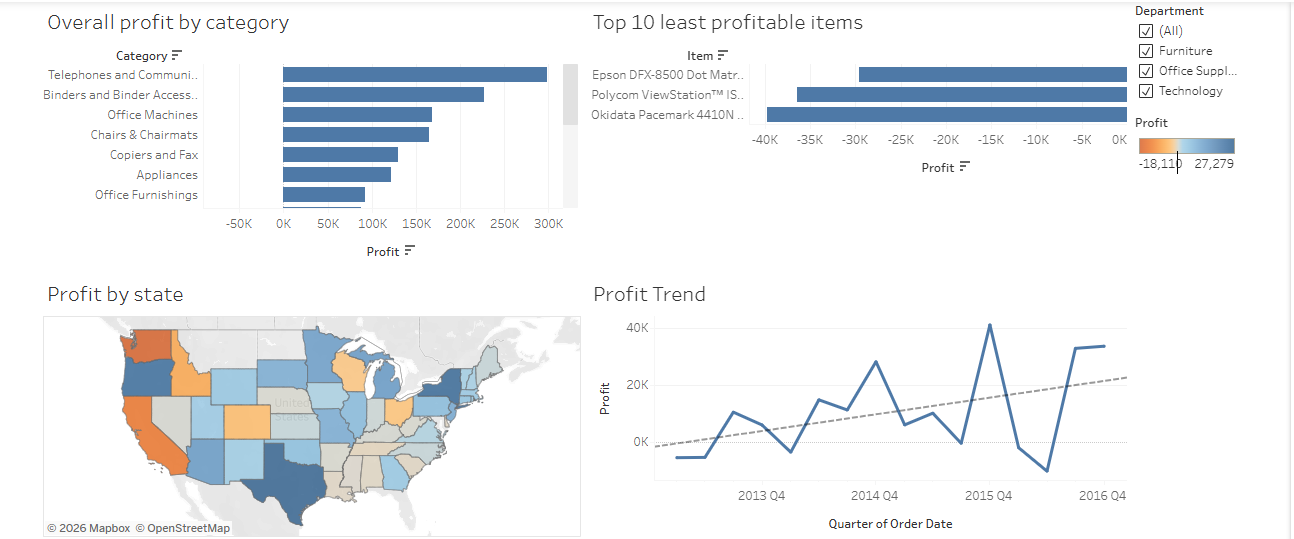

The page's visual inventory and layout, read from the dashboard file:
{"tool":"tableau","page":{"name":"Dashboard 1","canvas":[1000,1000],"units":"permille","ordinal":0},"visuals":[{"type":"worksheet","title":"profit by category","mark":"Automatic","rows":["Category"],"cols":["Profit"],"box":[6.9,13.5,444.5,486.5]},{"type":"worksheet","title":"top 10 least profitable items ","mark":"Automatic","rows":["Item"],"cols":["Profit"],"box":[451.4,13.5,444.7,486.5]},{"type":"filter","title":"profit by category","param":"[federated.04esxjf0mwbbnv14v930e0bvz5v3].[none:Department:nk]","box":[896.1,13.5,97,182.4]},{"type":"legend","title":"Profit by state","param":"[federated.04esxjf0mwbbnv14v930e0bvz5v3].[sum:Profit:qk]","box":[896.1,195.9,97,109.8]},{"type":"worksheet","title":"Profit by state","mark":"Multipolygon","box":[6.9,500,444.5,486.5]},{"type":"worksheet","title":"Profit Trend","mark":"Automatic","rows":["Profit"],"cols":["Order Date"],"box":[451.4,500,444.7,486.5]}]}

Visuals, with their boxes on the dashboard's canvas, which has no fixed pixel size, in thousandths of its width and height (x1, y1, x2, y2). These are canvas units, not pixel positions in the 1294x539 screenshot, which may show the page scaled, cropped or inside an application window:
"profit by category" worksheet: [x1=7, y1=14, x2=451, y2=500]
"top 10 least profitable items " worksheet: [x1=451, y1=14, x2=896, y2=500]
"profit by category" filter: [x1=896, y1=14, x2=993, y2=196]
"Profit by state" legend: [x1=896, y1=196, x2=993, y2=306]
"Profit by state" worksheet (Multipolygon marks): [x1=7, y1=500, x2=451, y2=986]
"Profit Trend" worksheet: [x1=451, y1=500, x2=896, y2=986]
